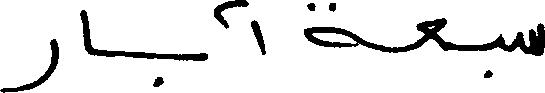X: (0, 34, 55, 92), (306, 0, 358, 52), (520, 18, 544, 60), (82, 5, 91, 59), (252, 15, 263, 59), (197, 48, 207, 65), (497, 29, 502, 53)
